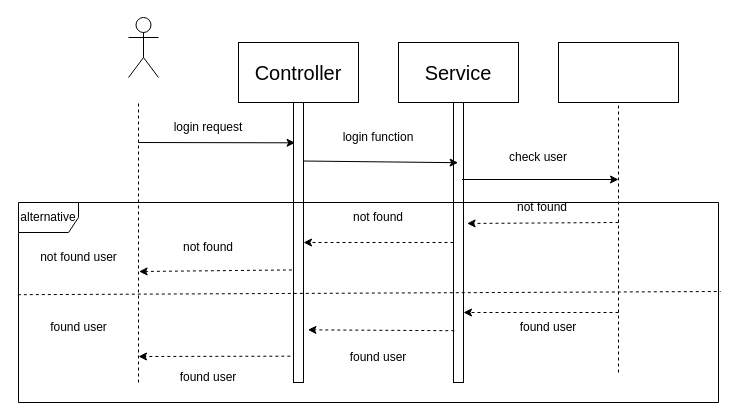
Some shapes in this 739 by 420 pixel diagram are drawn without their labels. The shapes that lost their labels are listed below. From the top down, each one's centre as x and y in pixels, then its label:
[143,47]: User
[618,72]: Database
